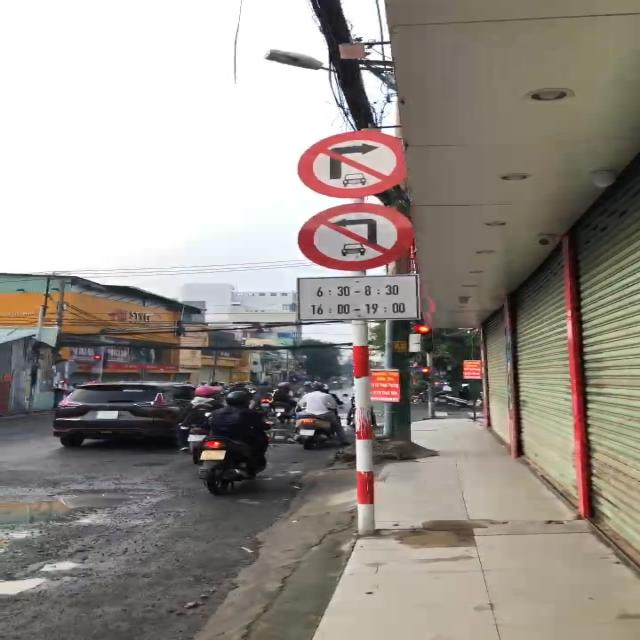Bien bao cam xe o to re phai: (296, 129, 414, 202)
Bien bao cam xe o to re trai: (289, 199, 429, 275)
